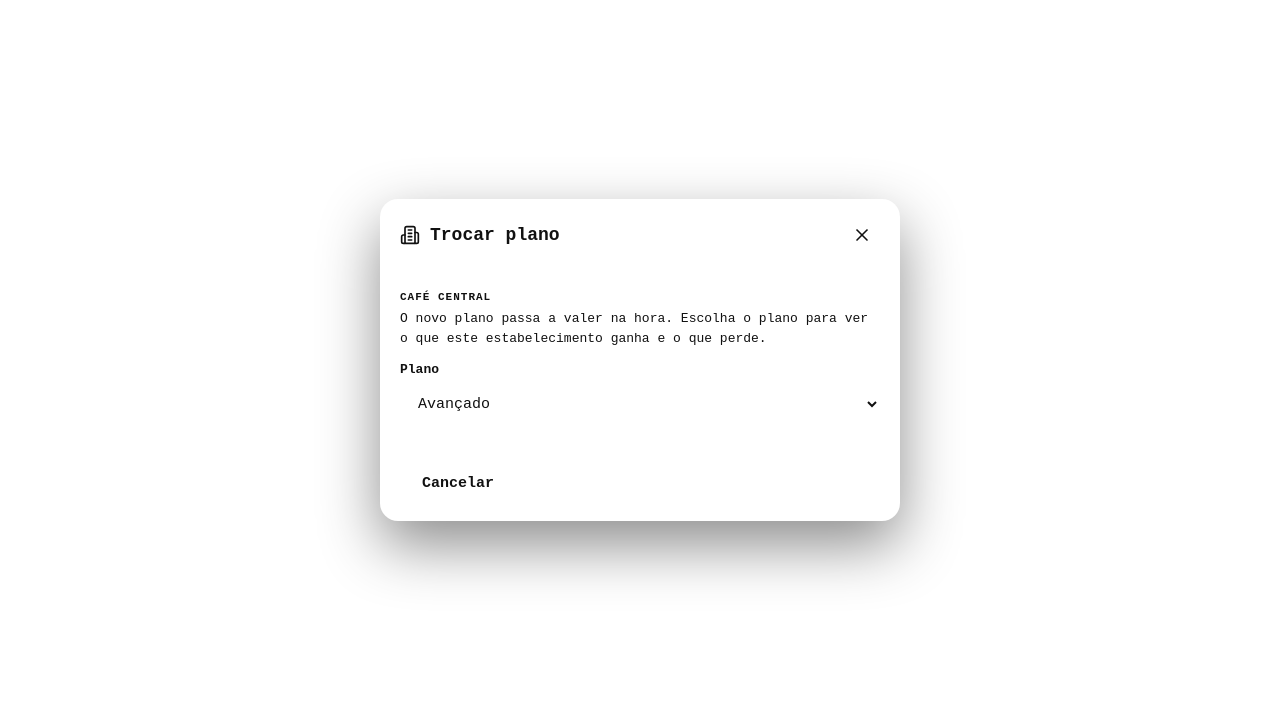
it: AlterarPlanoModal, a troca de plano diz o que o cliente perde › nomeia os módulos perdidos no downgrade e avisa que o site de pedidos sai do ar
The image size is (1280, 720).
Select "Básico" in the dropdown at x=640, y=404, box [400,383,880,426]
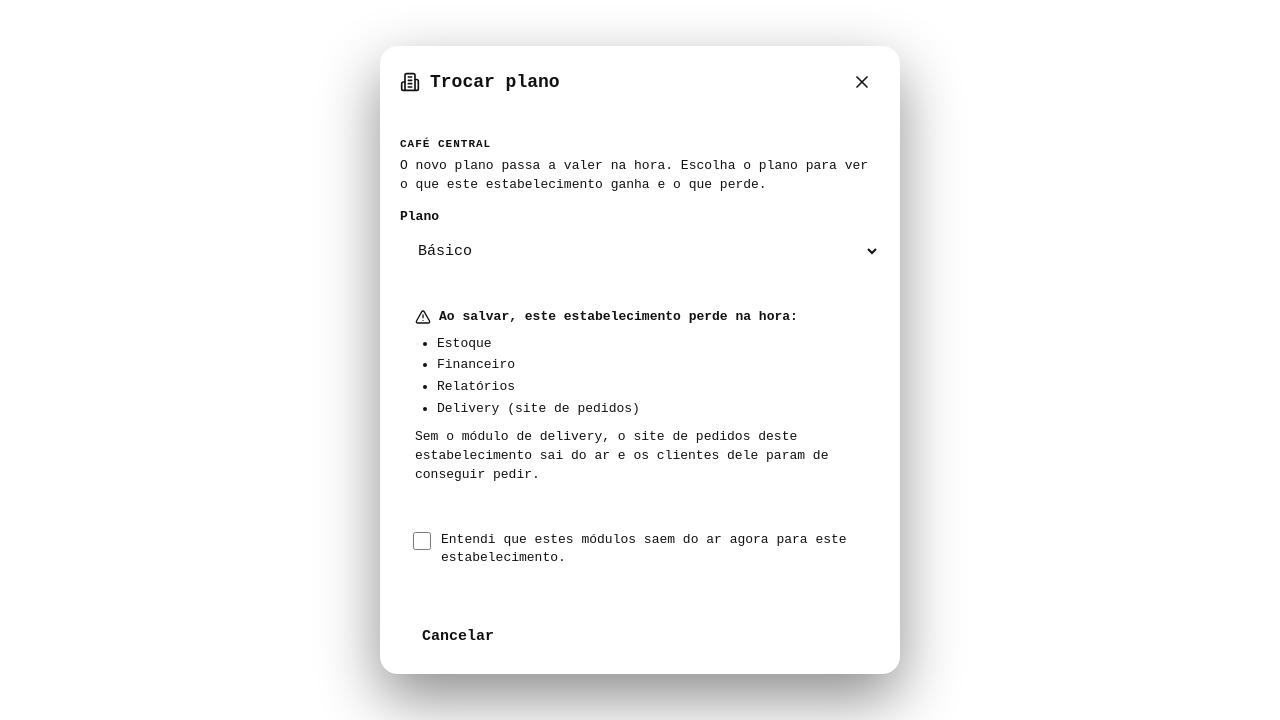
Result: the message shows "perde na hora" at [439,309,798,324]
Result: the message shows "Estoque" at [437,336,492,351]
Result: the message shows "Financeiro" at [437,358,515,372]
